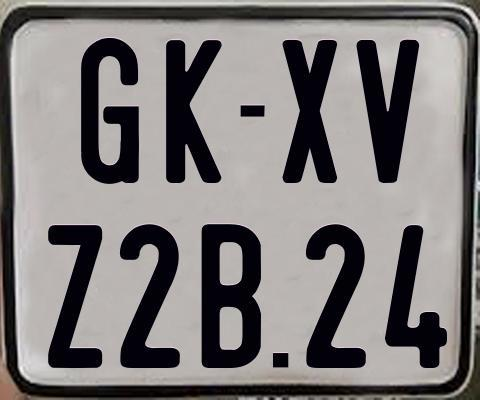2: (306, 224, 366, 372), (119, 223, 180, 368)
4: (383, 222, 449, 371)
B: (199, 221, 261, 367)
G: (78, 35, 140, 183)
K: (164, 37, 221, 185)
V: (356, 38, 422, 182)
X: (282, 40, 337, 183)
Z: (48, 222, 108, 370)
